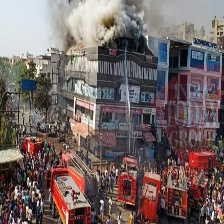smoke: (52, 1, 155, 40)
